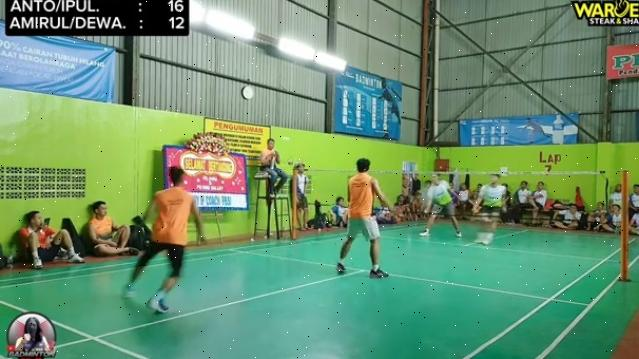Shuttlecock: (280, 132, 292, 144)
